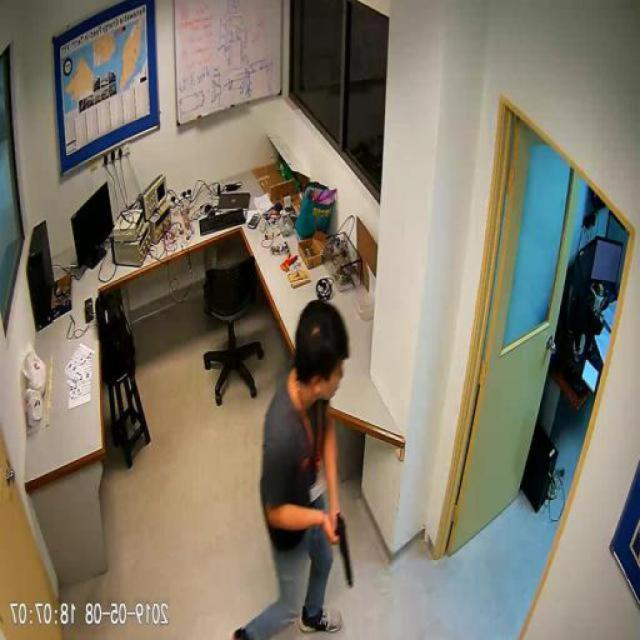pistol: (337, 509, 355, 586)
